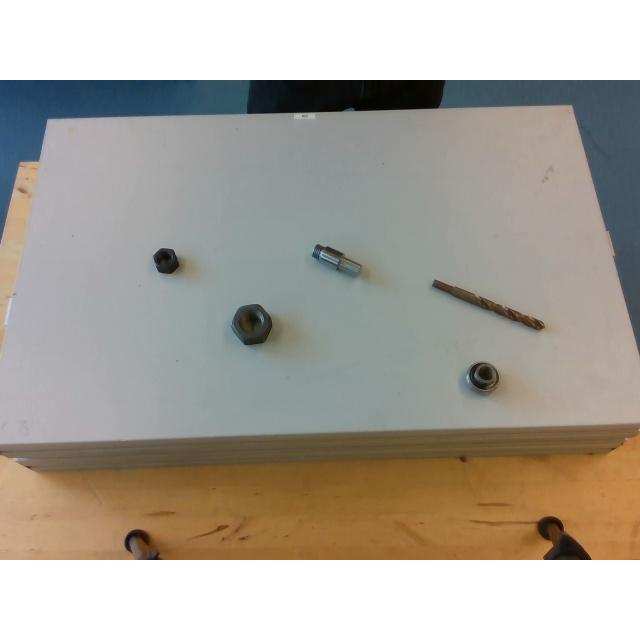Axis2: (312, 244, 363, 276)
Bearing2: (467, 361, 498, 391)
Drill: (431, 279, 543, 329)
M20: (153, 247, 179, 275)
M30: (231, 303, 271, 343)
